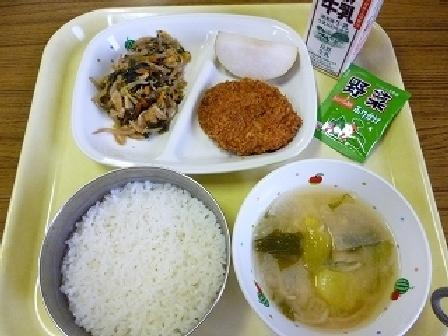Apple: (207, 20, 301, 83)
Milk: (291, 0, 383, 77)
Rice: (44, 167, 238, 334)
Soups: (237, 168, 430, 333)
cutlet: (194, 79, 309, 163)
salad with sauce: (92, 22, 195, 137)
